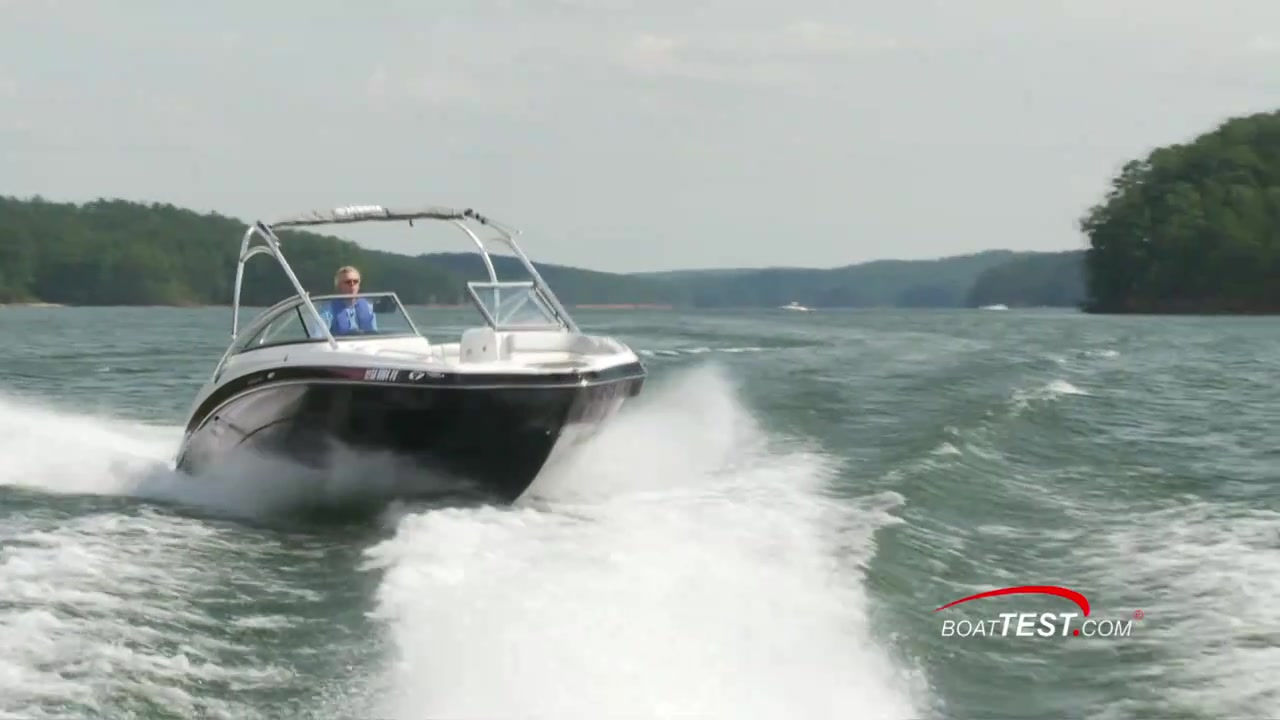boat: (173, 205, 650, 519)
